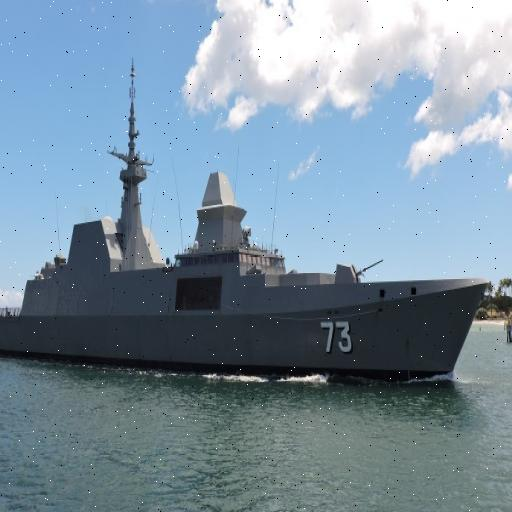Fragata: (1, 67, 494, 390)
